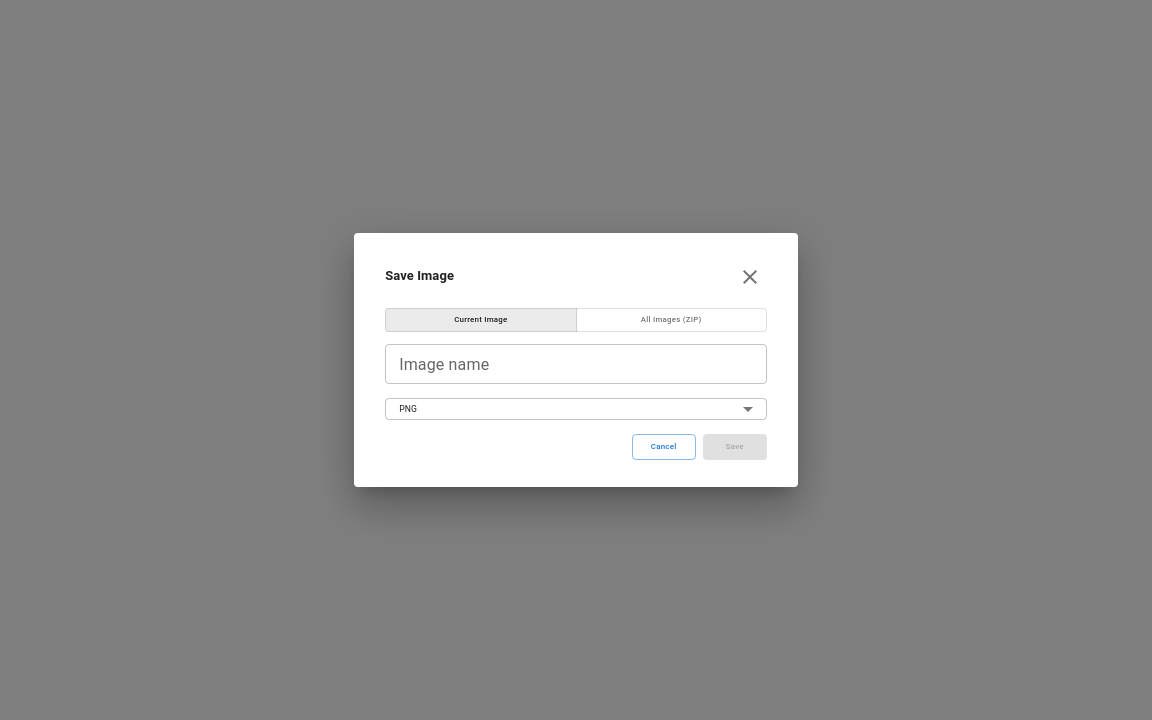
it: SaveDialog › mode toggle › shows the image name field again when switching back to Current Image mode
Click the button "All Images (ZIP)" at (671, 320), box [576,308,767,332]
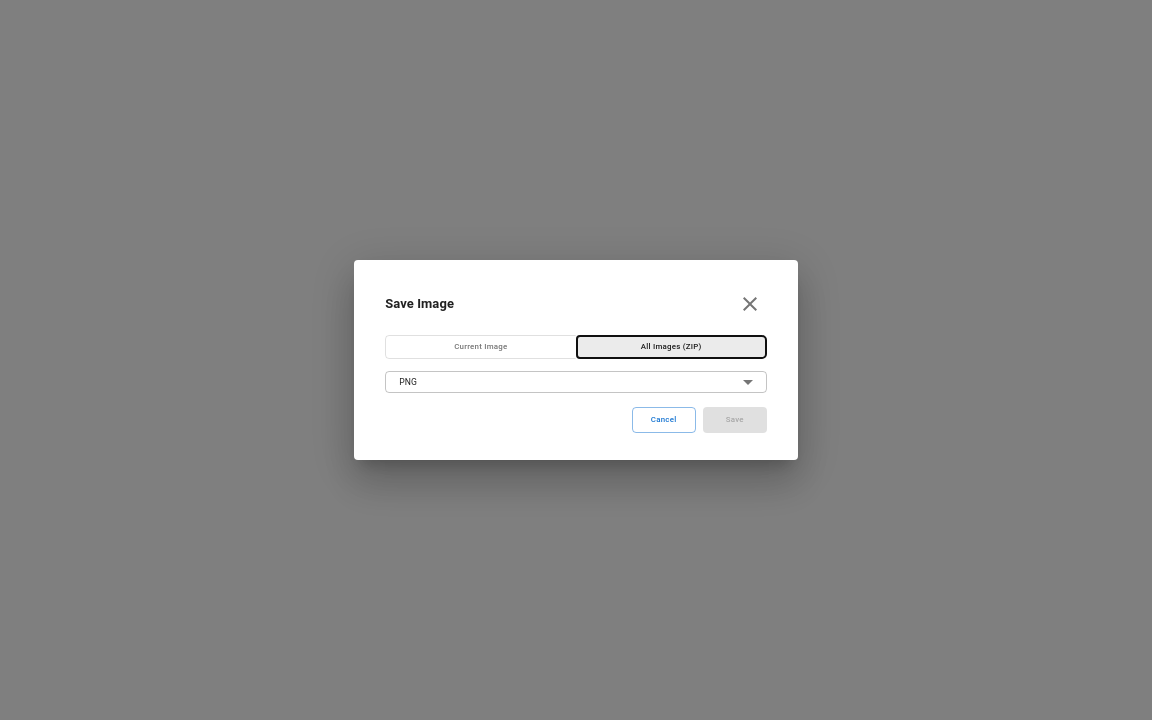
Click the button "Current Image" at (481, 347), box [385,335,576,359]
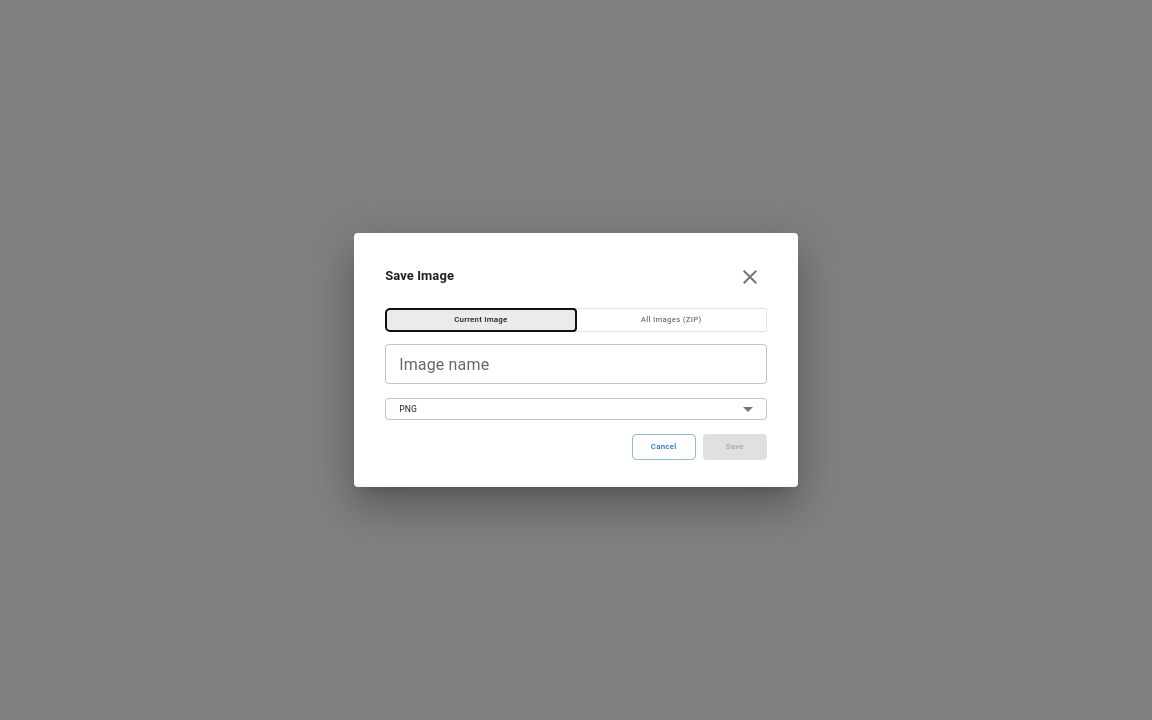
Expected: the field is shown, [385,344,767,384]
